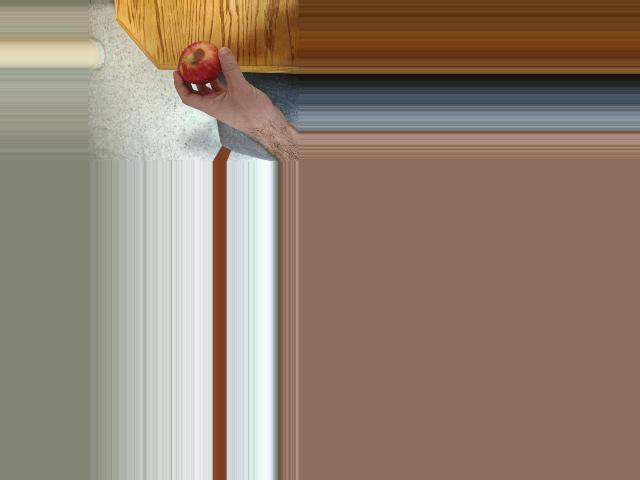apple: (176, 42, 226, 88)
